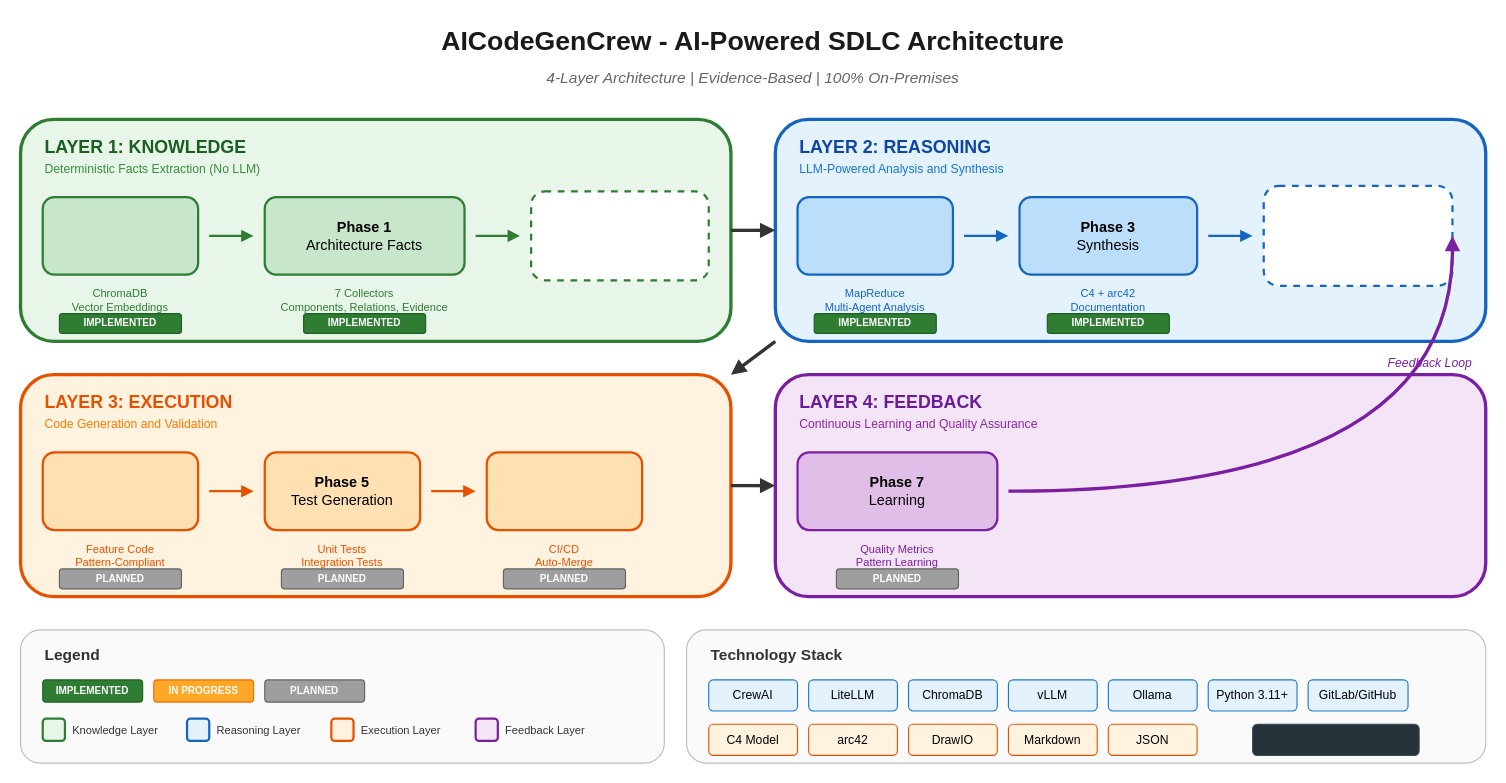
This 1506x783 diagram has some shape labels left out. The shapes that lost their labels are listed below. From the top down, each one's box as (x1, y1, x2, y2) in pixels, then its label:
(41, 195, 199, 275): Phase 0 Indexing
(529, 190, 709, 281): Output architecture_facts.json evidence_map.json
(796, 195, 953, 275): Phase 2 Analysis
(1262, 184, 1453, 286): Output analyzed_architecture.json c4/*.md + *.drawio arc42/*.md
(41, 451, 199, 531): Phase 4 Code Generation
(485, 451, 643, 531): Phase 6 Review + Deploy
(1252, 723, 1419, 755): ON-PREMISES ONLY
